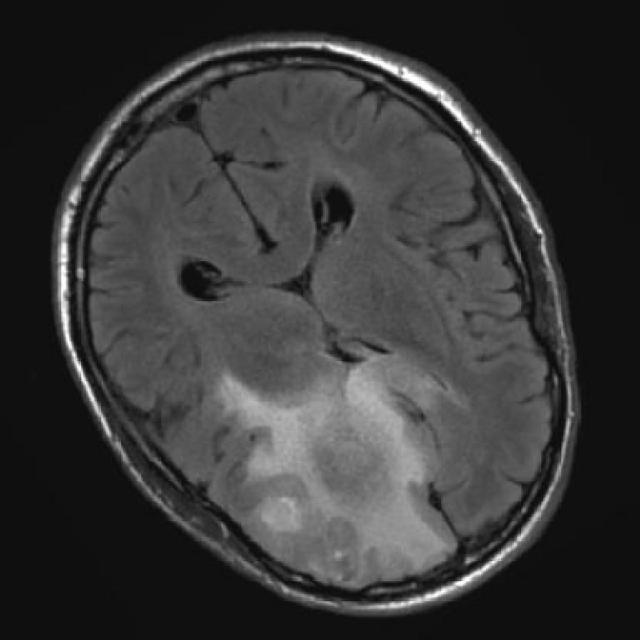Brain-Tumor: (210, 325, 475, 610)
